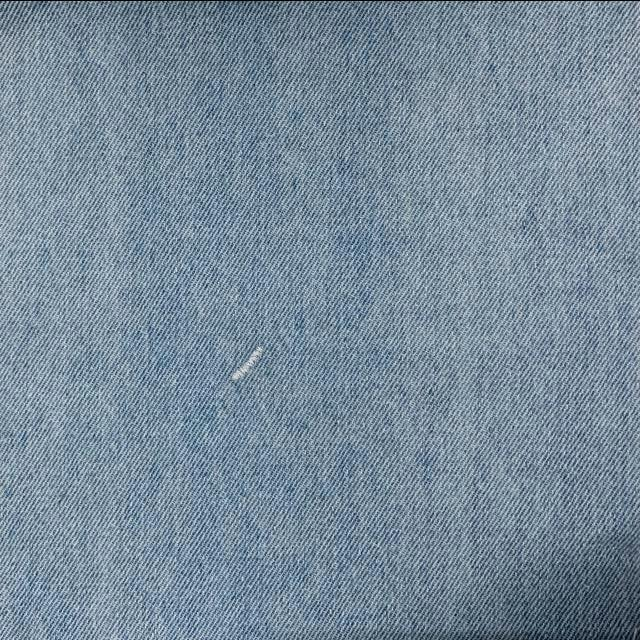Knot: (232, 345, 264, 380)
